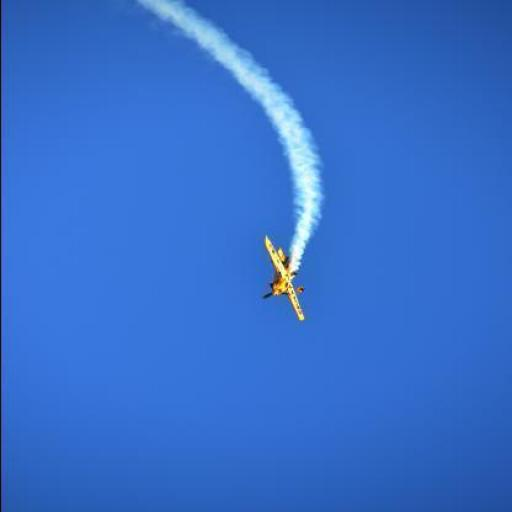aircraft: (260, 229, 306, 327)
